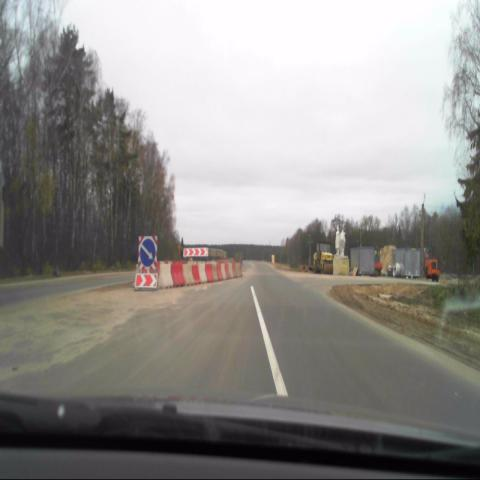4_2_1: (138, 234, 158, 268)
